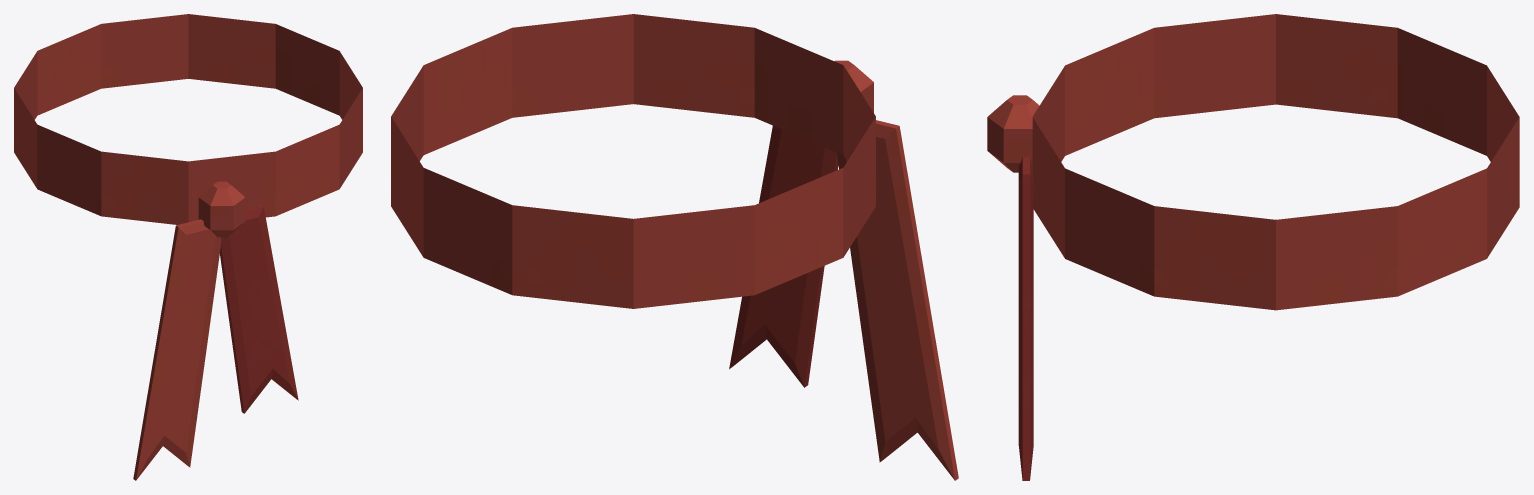
Rendered from acc_sash.glb.
The picture shows the model from 3 angles, left to right: view 1: azimuth 30°, elevation 25°; view 2: azimuth 150°, elevation 25°; view 3: azimuth 270°, elevation 25°; orthographic projection. The views are drawn at different scales.
Visible parts, largest first — view 1: acc_sash; view 2: acc_sash; view 3: acc_sash.
Part boxes in pixels (x1,y1,x2,y2): acc_sash: (14,14,362,480); acc_sash: (391,14,958,480); acc_sash: (987,14,1519,480).
Size of the model in its own units: 0.39 by 0.36 by 0.4261.
2 materials, 2 textured.
